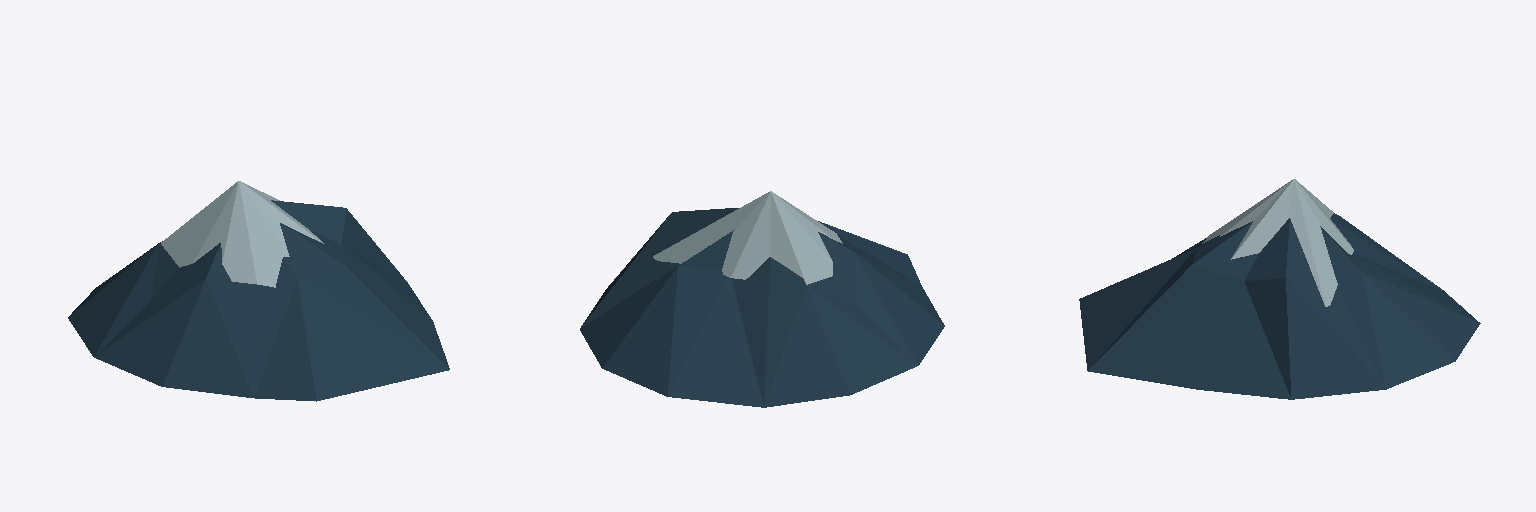
3 views of the same model, side by side, from view 1: azimuth 30°, elevation 25°; view 2: azimuth 150°, elevation 25°; view 3: azimuth 270°, elevation 25° (orthographic).
Visible parts, largest first — view 1: group[number redacted], group[number redacted]; view 2: group[number redacted], group[number redacted]; view 3: group[number redacted], group[number redacted].
Part boxes in pixels (bbox=[...]): group[number redacted]: bbox=[68, 200, 449, 401]; group[number redacted]: bbox=[161, 181, 323, 287]; group[number redacted]: bbox=[580, 208, 944, 407]; group[number redacted]: bbox=[653, 191, 842, 284]; group[number redacted]: bbox=[1079, 213, 1480, 399]; group[number redacted]: bbox=[1202, 179, 1353, 306].
Bounding box in the file's own units: 0.63 × 0.28 × 0.7.